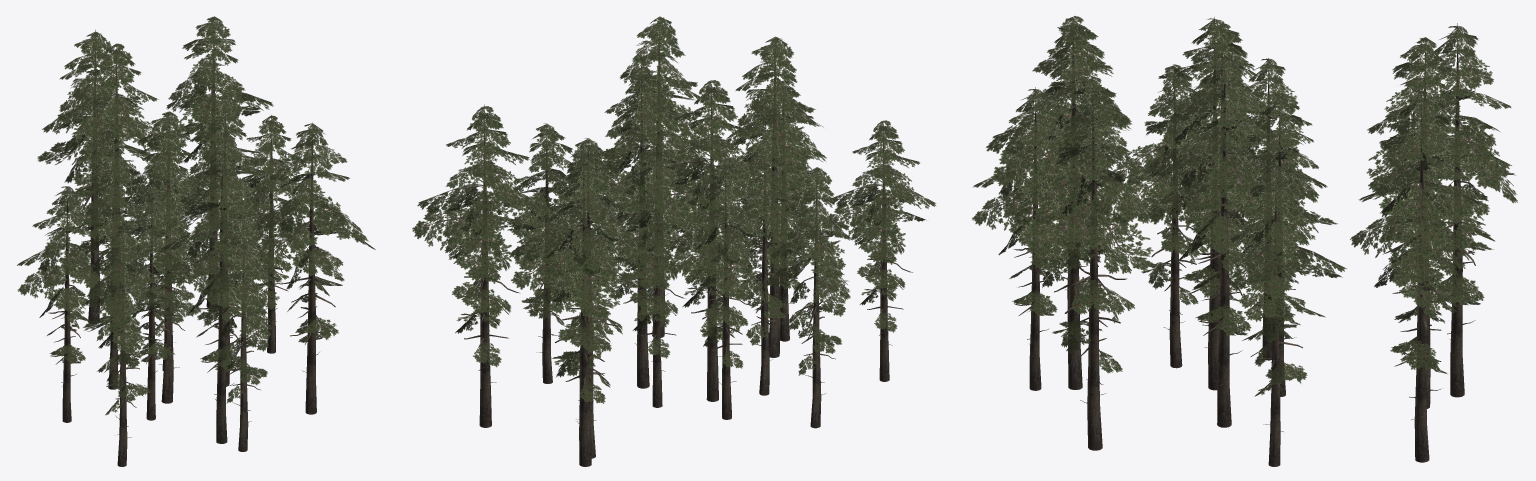
Rendered from treemiddle.obj.
3 renders of one model, left to right at view 1: azimuth 30°, elevation 25°; view 2: azimuth 150°, elevation 25°; view 3: azimuth 270°, elevation 25°, orthographic. The views are drawn at different scales.
Parts seen in each view (by area): view 1: Mesh1, Mesh5, Mesh6, Mesh4, Mesh3, Mesh2, Mesh7, Meshpart1, Meshpart5, Meshpart6, Meshpart3, Meshpart2 (+2 smaller); view 2: Mesh2, Mesh7, Mesh6, Mesh5, Mesh1, Mesh4, Mesh3, Meshpart2, Meshpart7, Meshpart5, Meshpart6, Meshpart3 (+2 smaller); view 3: Mesh1, Mesh7, Mesh3, Mesh4, Mesh2, Mesh5, Mesh6, Meshpart1, Meshpart3, Meshpart7, Meshpart2, Meshpart4 (+2 smaller).
Part boxes in pixels (x1=…): Mesh1: x1=102, y1=123, x2=375, y2=362; Mesh5: x1=17, y1=152, x2=273, y2=371; Mesh6: x1=83, y1=111, x2=220, y2=415; Mesh4: x1=65, y1=43, x2=317, y2=309; Mesh3: x1=174, y1=94, x2=282, y2=403; Mesh2: x1=37, y1=31, x2=149, y2=340; Mesh7: x1=131, y1=16, x2=273, y2=316; Meshpart1: x1=130, y1=122, x2=335, y2=420; Meshpart5: x1=48, y1=165, x2=239, y2=443; Meshpart6: x1=104, y1=116, x2=189, y2=466; Meshpart3: x1=202, y1=92, x2=260, y2=451; Meshpart2: x1=75, y1=29, x2=120, y2=389; Mesh2: x1=509, y1=145, x2=768, y2=403; Mesh7: x1=412, y1=106, x2=700, y2=367; Mesh6: x1=645, y1=80, x2=935, y2=339; Mesh5: x1=716, y1=36, x2=855, y2=375; Mesh1: x1=600, y1=16, x2=805, y2=345; Mesh4: x1=506, y1=123, x2=653, y2=387; Mesh3: x1=567, y1=66, x2=826, y2=325; Meshpart2: x1=555, y1=147, x2=755, y2=466; Meshpart7: x1=459, y1=104, x2=685, y2=427; Meshpart5: x1=756, y1=66, x2=835, y2=428; Meshpart6: x1=686, y1=94, x2=912, y2=401; Meshpart3: x1=616, y1=66, x2=799, y2=388; Mesh1: x1=1012, y1=64, x2=1220, y2=373; Mesh7: x1=1228, y1=90, x2=1493, y2=374; Mesh3: x1=972, y1=56, x2=1283, y2=335; Mesh4: x1=1228, y1=37, x2=1511, y2=396; Mesh2: x1=1225, y1=25, x2=1517, y2=305; Mesh5: x1=986, y1=16, x2=1266, y2=315; Mesh6: x1=1016, y1=18, x2=1272, y2=301; Meshpart1: x1=1064, y1=66, x2=1196, y2=450; Meshpart3: x1=1013, y1=55, x2=1245, y2=427; Meshpart7: x1=1261, y1=108, x2=1452, y2=462; Meshpart2: x1=1246, y1=23, x2=1482, y2=397; Meshpart4: x1=1242, y1=40, x2=1457, y2=466.
Bounding box in the file's own units: 43.88 × 37.78 × 49.98.
Materials: 2 (2 with a texture image).
